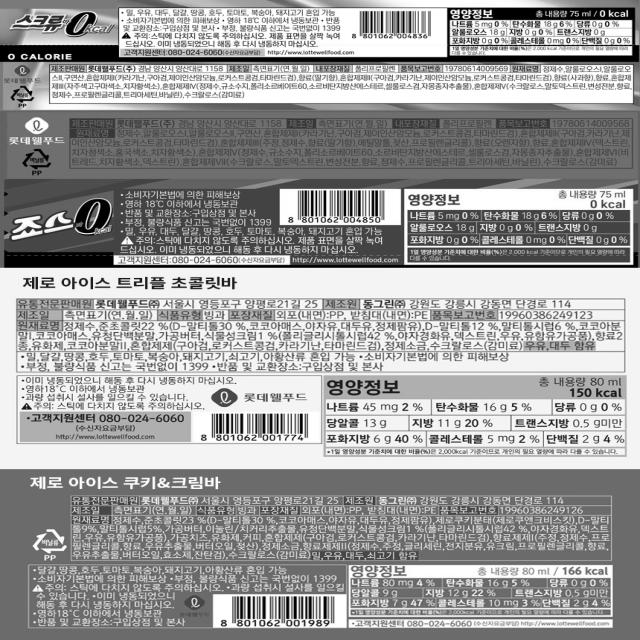Nutrition Label: (406, 180, 640, 271)
